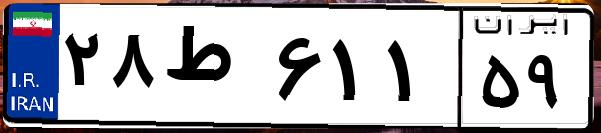1: (385, 28, 445, 110), (330, 28, 385, 110)
2: (57, 26, 110, 100)
5: (475, 38, 525, 113)
6: (270, 28, 330, 110)
8: (110, 28, 158, 98)
9: (525, 38, 570, 115)
ط: (158, 20, 270, 120)
